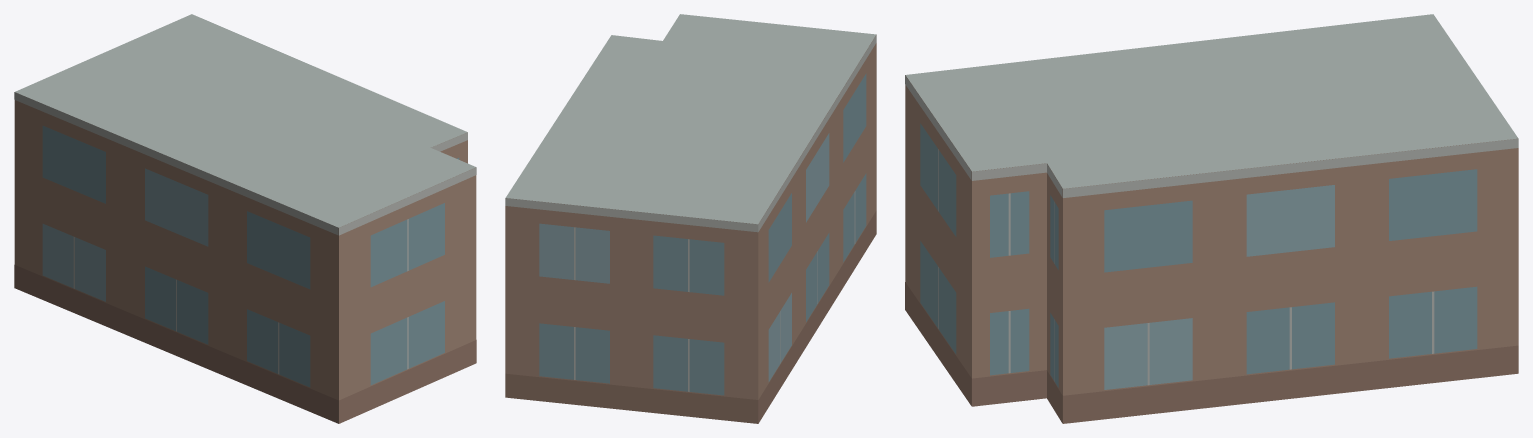
Rendered from survey-upis-32764139.glb.
The picture shows the model from 3 angles, left to right: view 1: azimuth 30°, elevation 25°; view 2: azimuth 150°, elevation 25°; view 3: azimuth 270°, elevation 25°; orthographic projection. The views are drawn at different scales.
Visible parts, largest first — view 1: survey-upis-32764139.tmp; view 2: survey-upis-32764139.tmp; view 3: survey-upis-32764139.tmp.
Part boxes in pixels (x1=…): survey-upis-32764139.tmp: x1=14, y1=14, x2=476, y2=423; survey-upis-32764139.tmp: x1=505, y1=14, x2=876, y2=423; survey-upis-32764139.tmp: x1=905, y1=14, x2=1518, y2=423.
Size of the model in its own units: 9.74 by 6.1 by 14.44.
